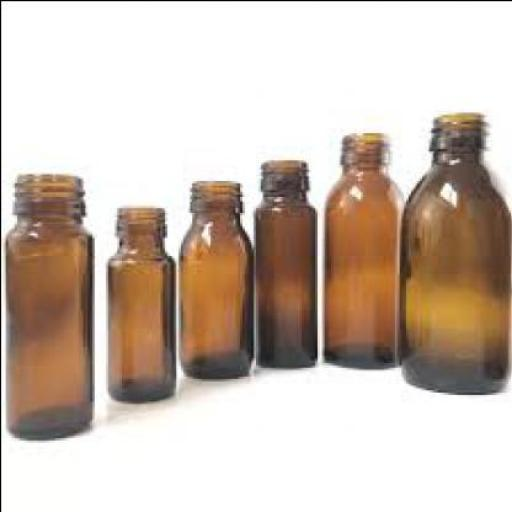glass: (394, 111, 507, 392), (1, 170, 91, 439), (318, 127, 398, 364), (175, 174, 248, 376), (102, 205, 171, 398), (250, 157, 314, 364)
